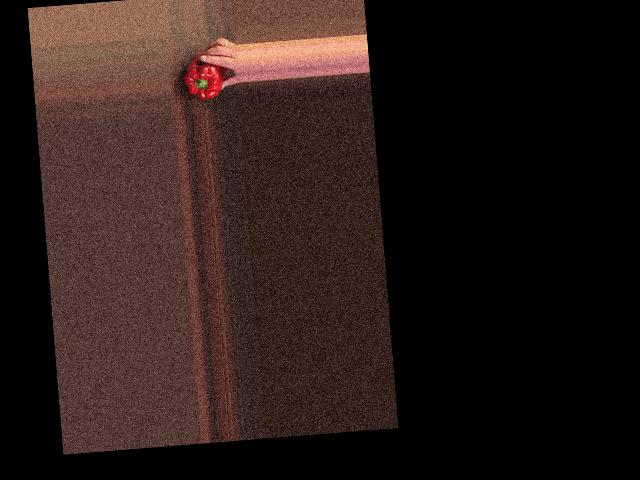bell_pepper: (181, 55, 226, 102)
